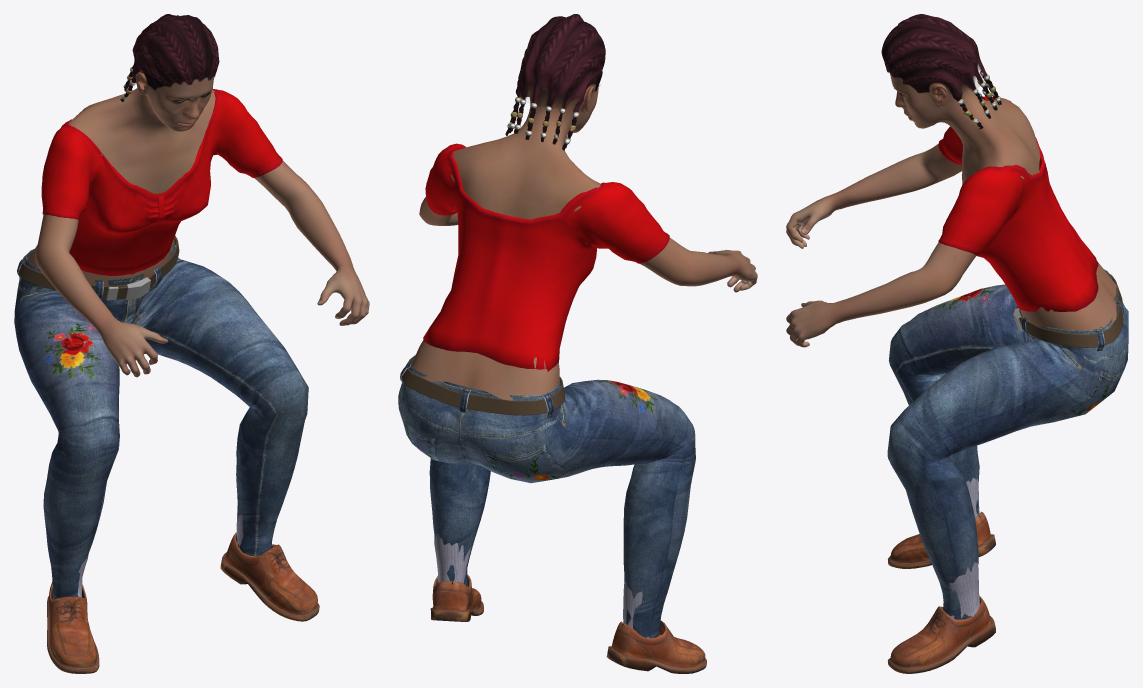
The model's file is donna-02.glb.
The picture shows the model from 3 angles, left to right: view 1: azimuth 30°, elevation 25°; view 2: azimuth 150°, elevation 25°; view 3: azimuth 270°, elevation 25°; orthographic projection. The views are drawn at different scales.
Visible parts, largest first — view 1: Human.mindfront_female_trousers_1, Human, Human.punkduck_retro_top, Human.shoes01, Human.elvs_braided_rows; view 2: Human.mindfront_female_trousers_1, Human.punkduck_retro_top, Human, Human.elvs_braided_rows, Human.shoes01; view 3: Human.mindfront_female_trousers_1, Human, Human.punkduck_retro_top, Human.shoes01, Human.elvs_braided_rows.
Boxes of the visible parts, x1=… form: Human.mindfront_female_trousers_1: x1=14, y1=235, x2=308, y2=599; Human: x1=28, y1=70, x2=369, y2=377; Human.punkduck_retro_top: x1=41, y1=89, x2=282, y2=275; Human.shoes01: x1=47, y1=504, x2=319, y2=673; Human.elvs_braided_rows: x1=120, y1=14, x2=219, y2=102; Human.mindfront_female_trousers_1: x1=398, y1=355, x2=695, y2=638; Human.punkduck_retro_top: x1=423, y1=143, x2=669, y2=371; Human: x1=411, y1=81, x2=757, y2=400; Human.elvs_braided_rows: x1=505, y1=14, x2=605, y2=150; Human.shoes01: x1=430, y1=531, x2=706, y2=673; Human.mindfront_female_trousers_1: x1=887, y1=269, x2=1128, y2=619; Human: x1=786, y1=73, x2=1116, y2=347; Human.punkduck_retro_top: x1=938, y1=96, x2=1098, y2=311; Human.shoes01: x1=888, y1=477, x2=995, y2=673; Human.elvs_braided_rows: x1=881, y1=14, x2=1001, y2=129.
Bounding box in the file's own units: 0.6496 × 1.4 × 0.7267.
Materials: 13 (13 with a texture image).
